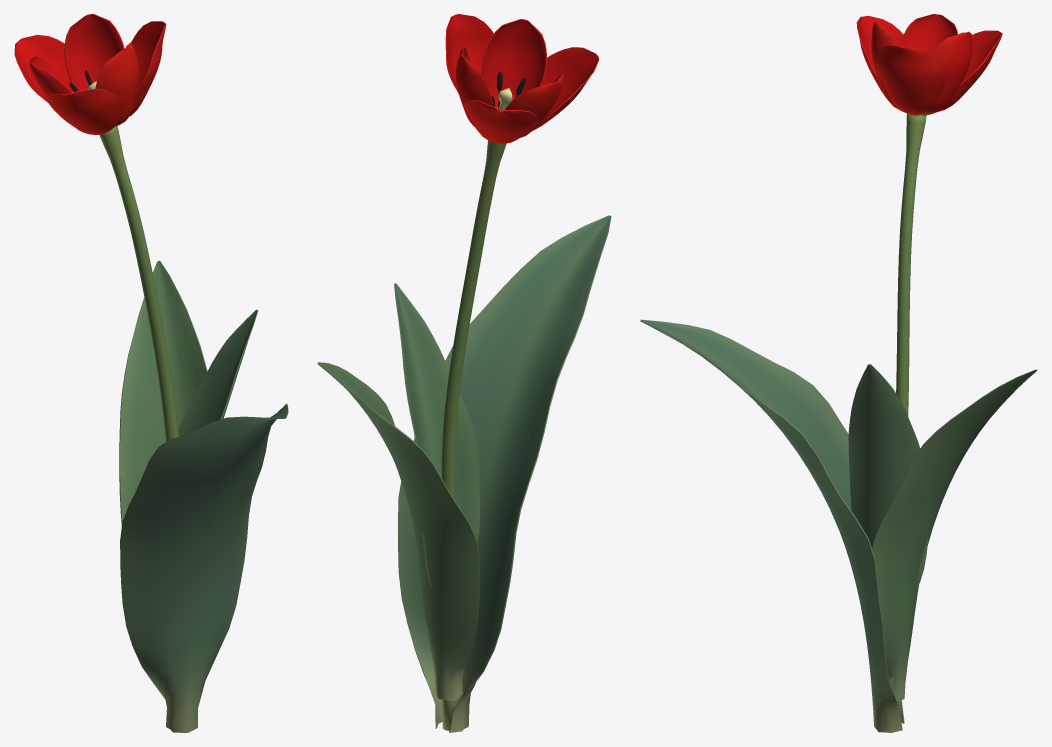
The model's file is full-red.glb.
3 views of the same model, side by side, from view 1: azimuth 30°, elevation 25°; view 2: azimuth 150°, elevation 25°; view 3: azimuth 270°, elevation 25° (orthographic). The views are drawn at different scales.
Visible parts, largest first — view 1: tulip-full-red; view 2: tulip-full-red; view 3: tulip-full-red.
Part boxes in pixels (x1,y1,x2,y2): tulip-full-red: (14, 14, 288, 732); tulip-full-red: (317, 14, 611, 732); tulip-full-red: (640, 14, 1037, 732).
Size of the model in its own units: 0.1185 by 0.3942 by 0.2102.
